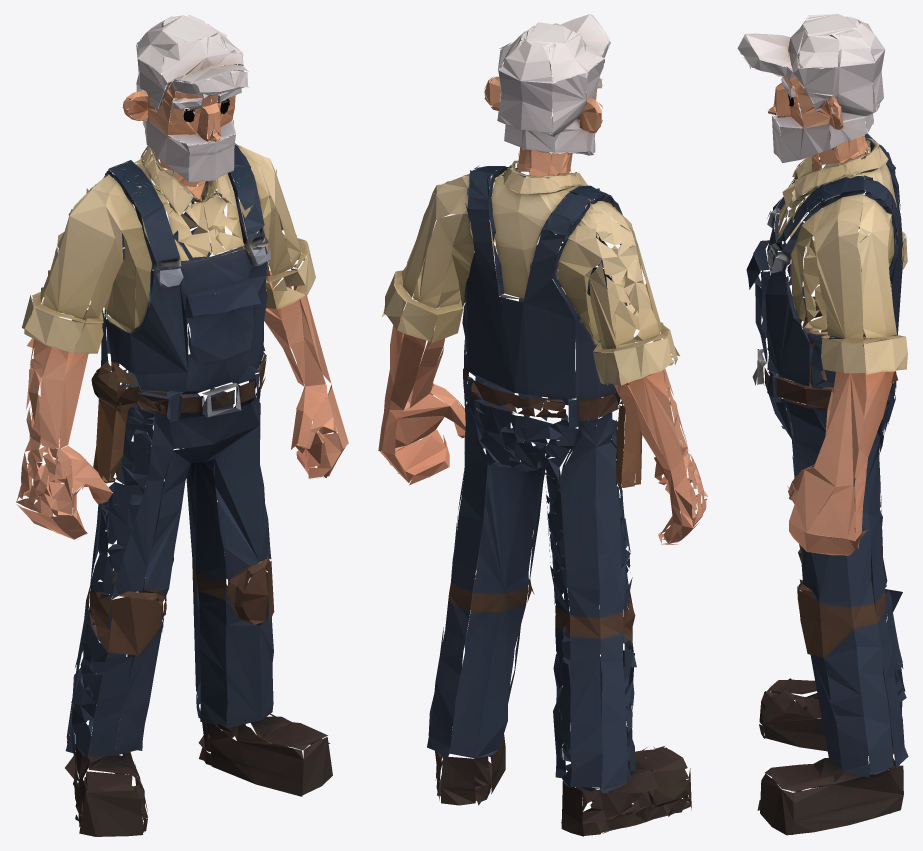
File: habitant.glb
The picture shows the model from 3 angles, left to right: view 1: azimuth 30°, elevation 25°; view 2: azimuth 150°, elevation 25°; view 3: azimuth 270°, elevation 25°; orthographic projection.
Visible parts, largest first — view 1: world; view 2: world; view 3: world.
Part boxes in pixels (left/top/right/bottom): world: left=16, top=14, right=348, bottom=836; world: left=378, top=14, right=707, bottom=836; world: left=737, top=14, right=908, bottom=835.
Bounding box in the file's own units: 0.4357 × 1 × 0.2063.
1 material, 1 textured.
